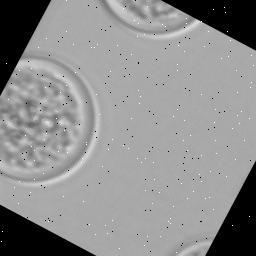picoshell: (0, 60, 100, 188), (104, 0, 199, 39), (176, 240, 213, 256)
